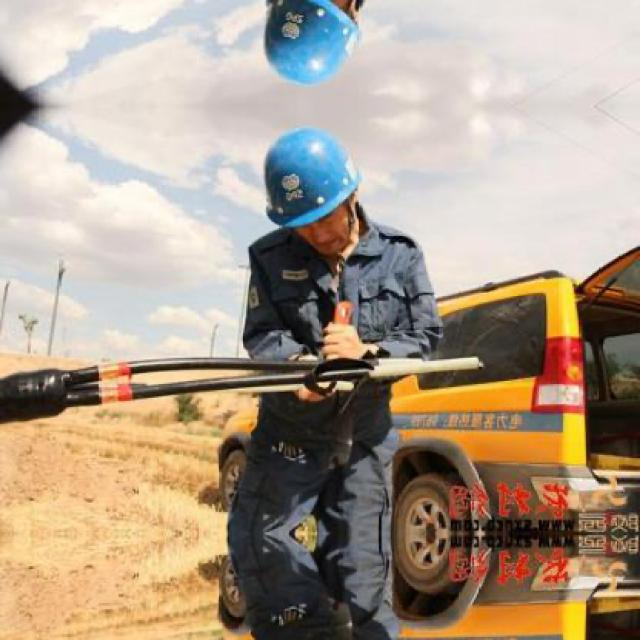helmet: (244, 110, 370, 264), (243, 0, 371, 105)
